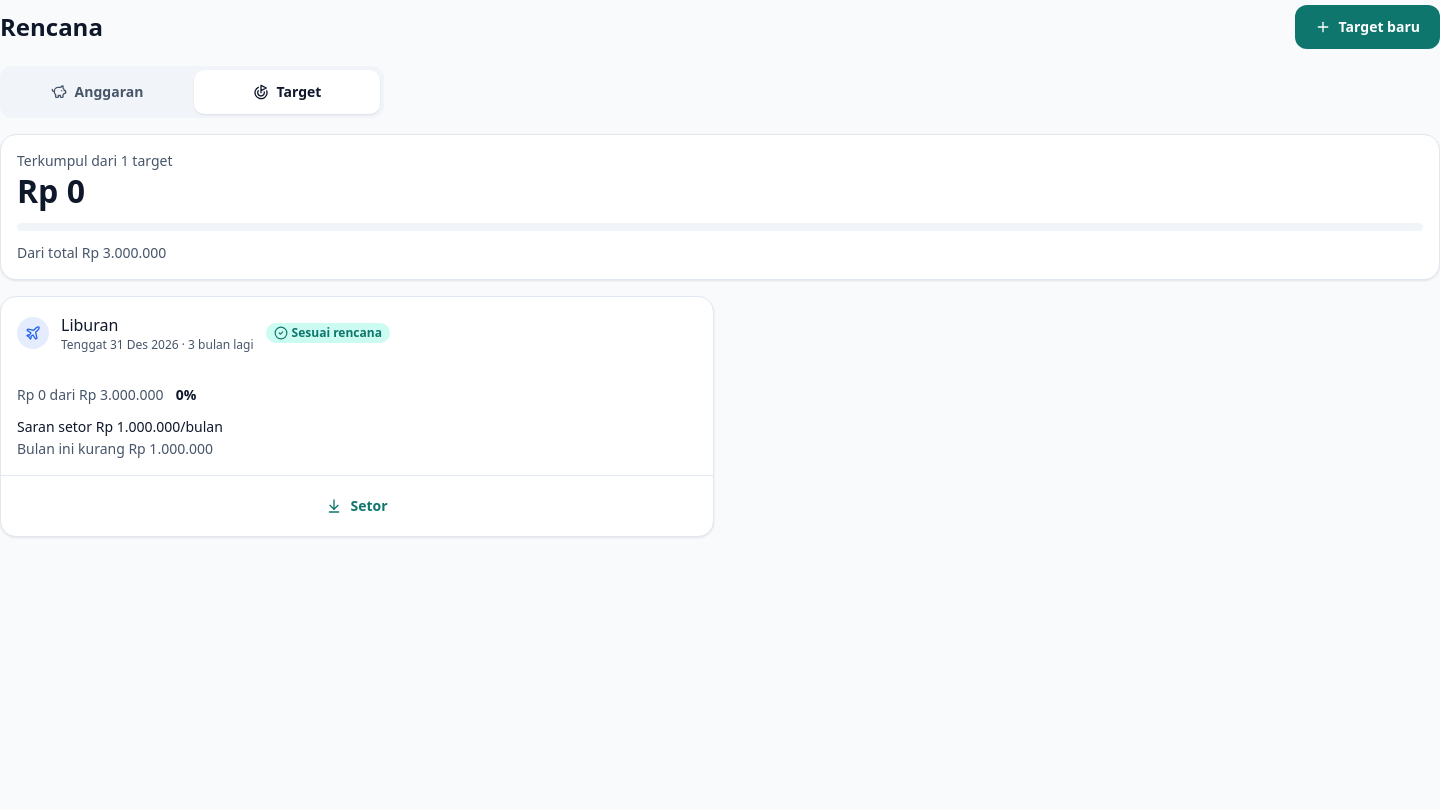
GoalsPage › target lama tanpa dompet: setor diarahkan memilih dompet tabungan dulu
Step 1. Click the button with aria-label "Setor ke Liburan" → (357,506), box x1=9 y1=484 x2=705 y2=528
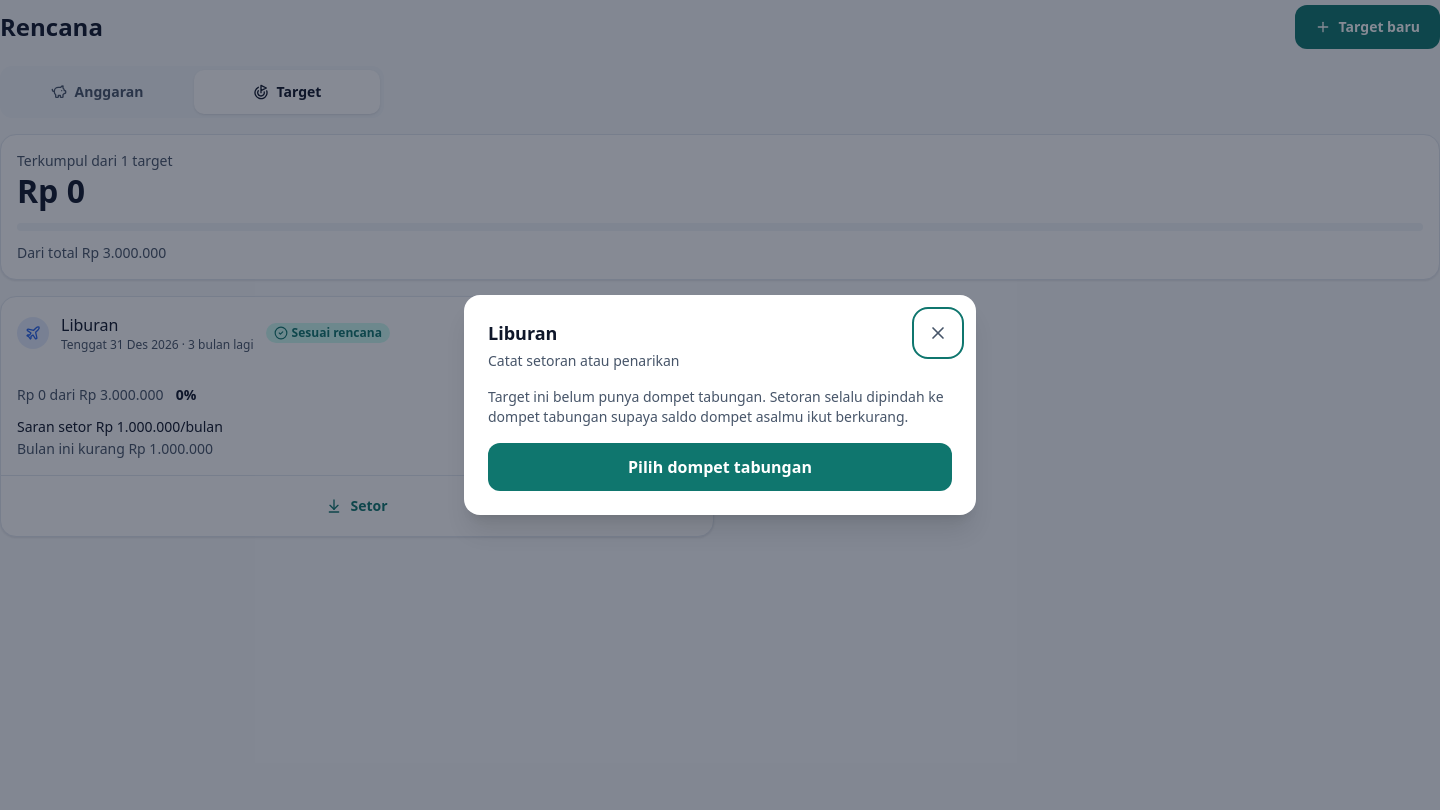
expect the text "belum punya dompet tabungan" is shown: met, box x1=488 y1=387 x2=766 y2=406
Step 2. Click the button "Pilih dompet tabungan" → (720,467), box x1=488 y1=443 x2=952 y2=491
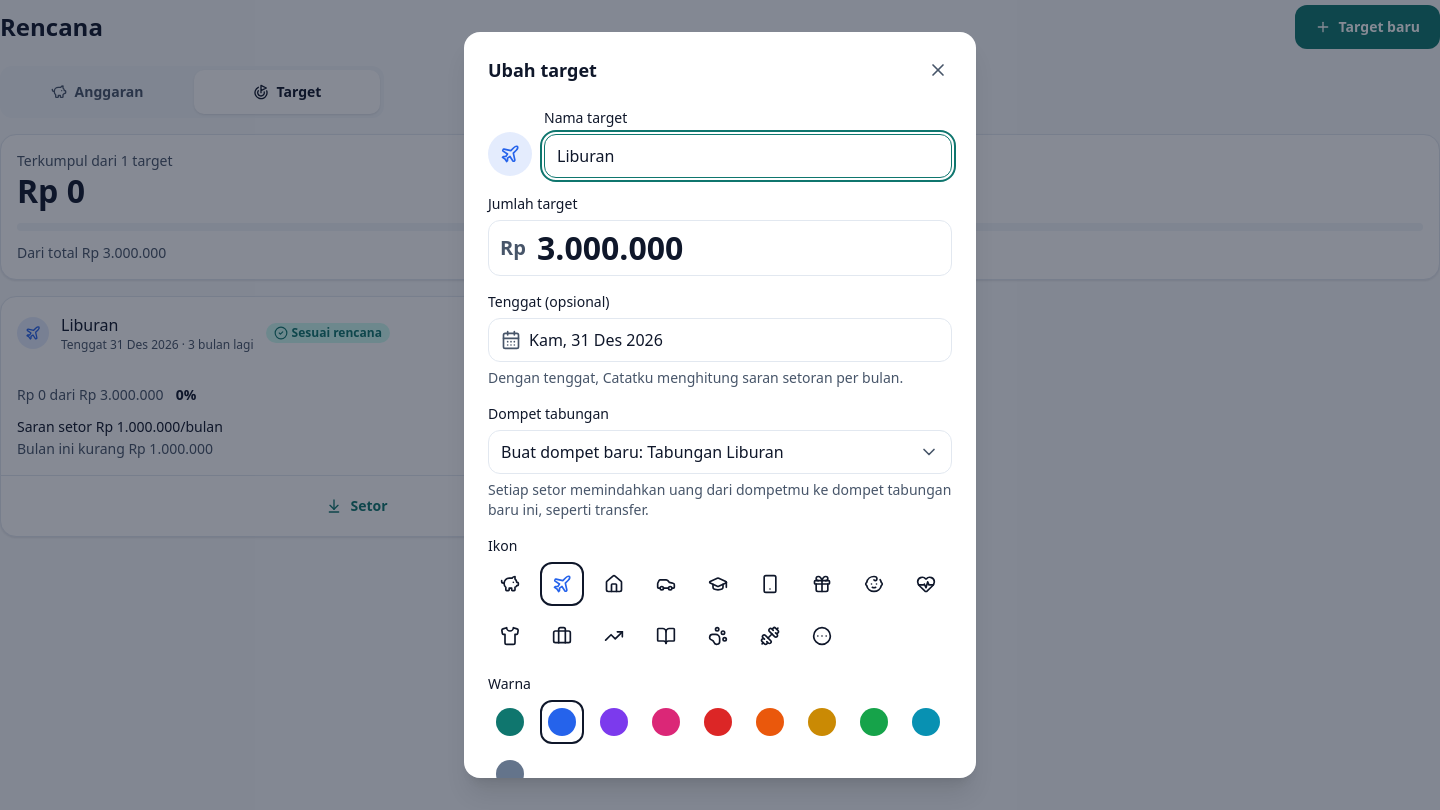
expect the dropdown named "Dompet tabungan" reads "Buat dompet baru: Tabungan Liburan": met, box x1=488 y1=430 x2=952 y2=474
